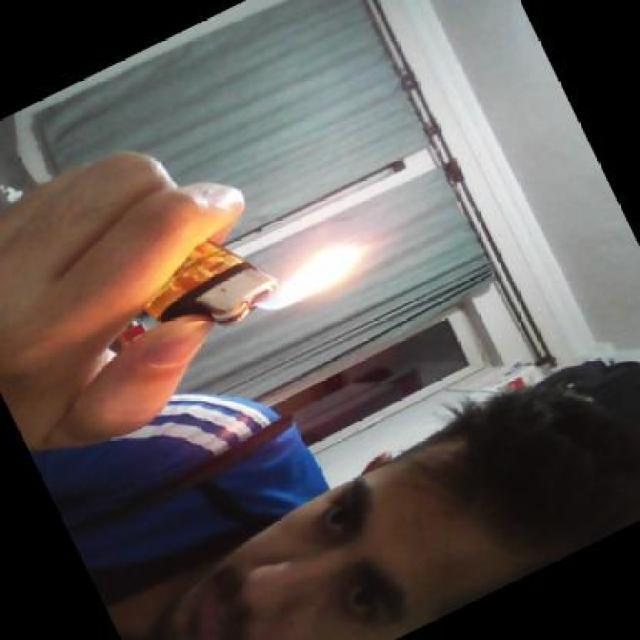Fire: (263, 232, 374, 332)
